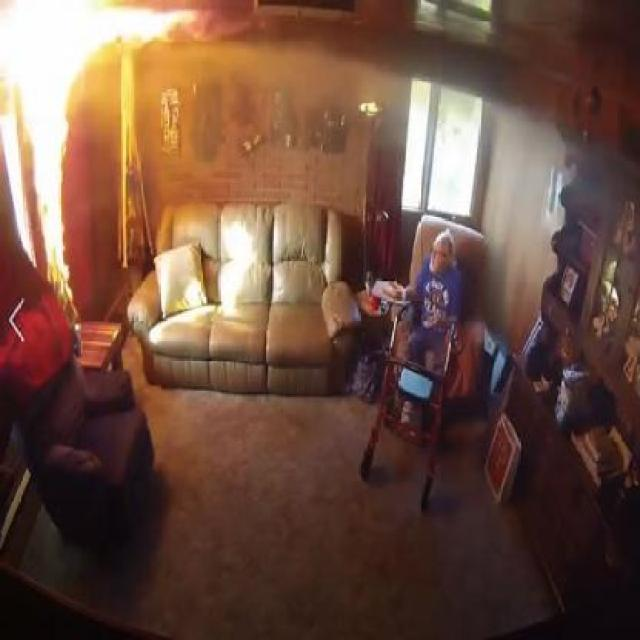Fire: (0, 0, 187, 297), (2, 105, 27, 183), (10, 184, 28, 221), (20, 226, 38, 263)
